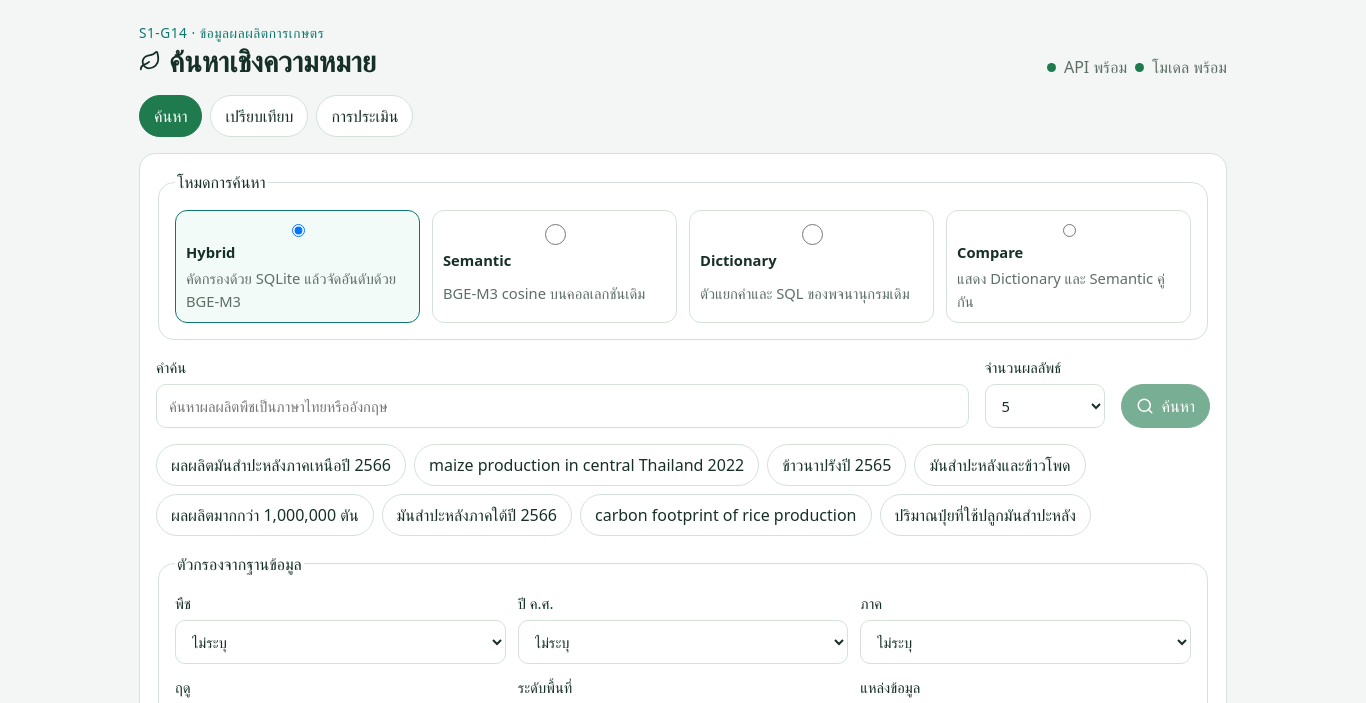
frontend › loads the evaluation dashboard on demand
Click the button "การประเมิน" at (365, 116), box top-left (316, 95), bottom-right (413, 137)
(page scrolled)
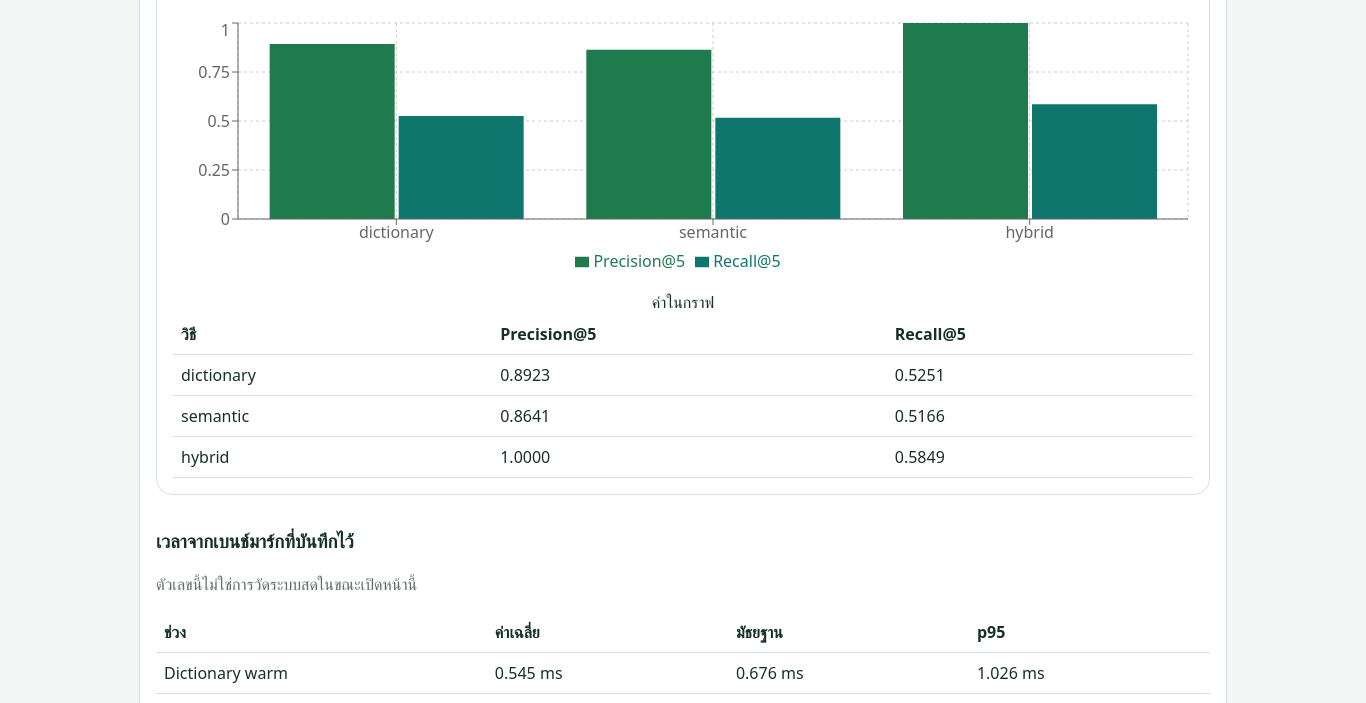
Expected: the table "ค่าในกราฟ" is shown, top-left (173, 290), bottom-right (1193, 478)
